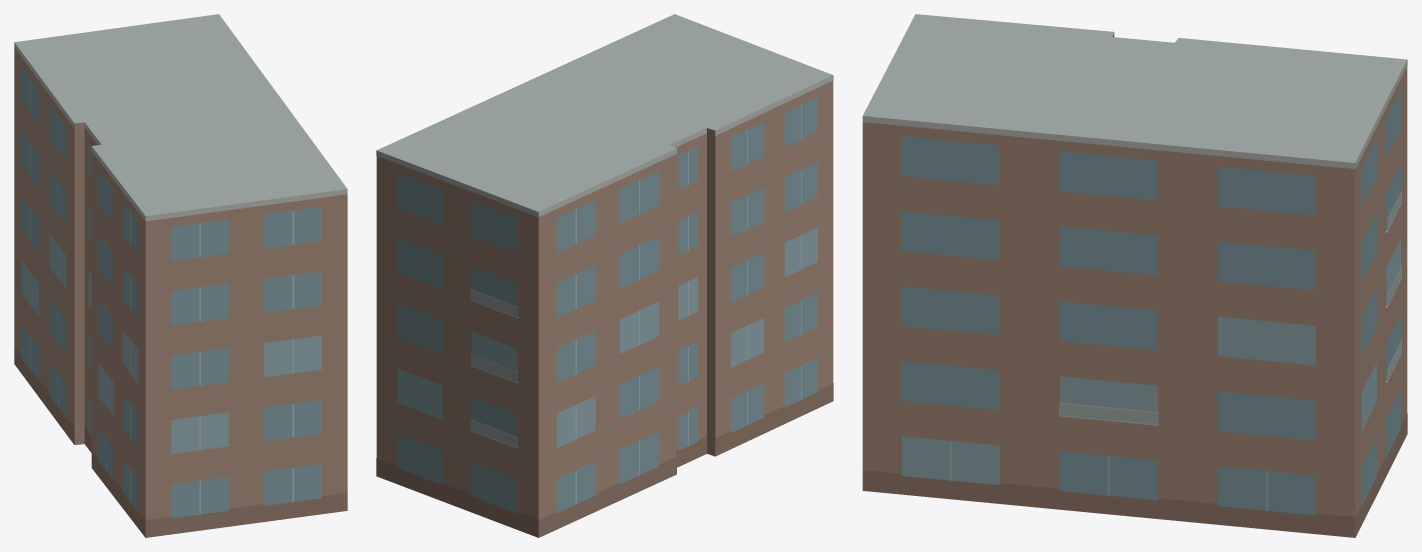
Rendered from survey-upis-33012449.glb.
3 views of the same model, side by side, from view 1: azimuth 30°, elevation 25°; view 2: azimuth 150°, elevation 25°; view 3: azimuth 270°, elevation 25° (orthographic). The views are drawn at different scales.
Visible parts, largest first — view 1: survey-upis-33012449.tmp; view 2: survey-upis-33012449.tmp; view 3: survey-upis-33012449.tmp.
Boxes of the visible parts, x1=… form: survey-upis-33012449.tmp: x1=14, y1=14, x2=347, y2=537; survey-upis-33012449.tmp: x1=376, y1=14, x2=833, y2=537; survey-upis-33012449.tmp: x1=862, y1=14, x2=1407, y2=537.
Bounding box in the file's own units: 12.89 × 15.1 × 19.9.
